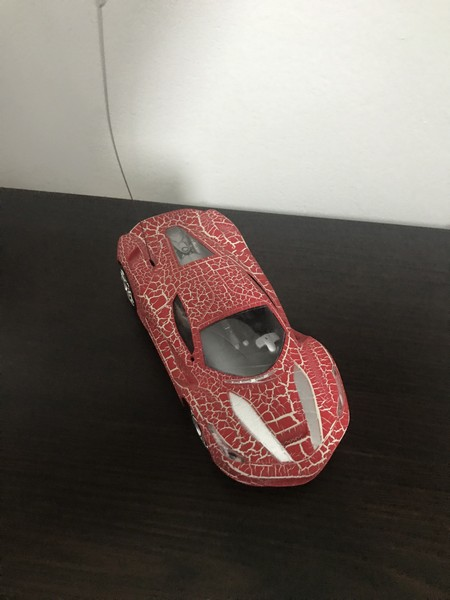RC: (116, 207, 352, 492)
